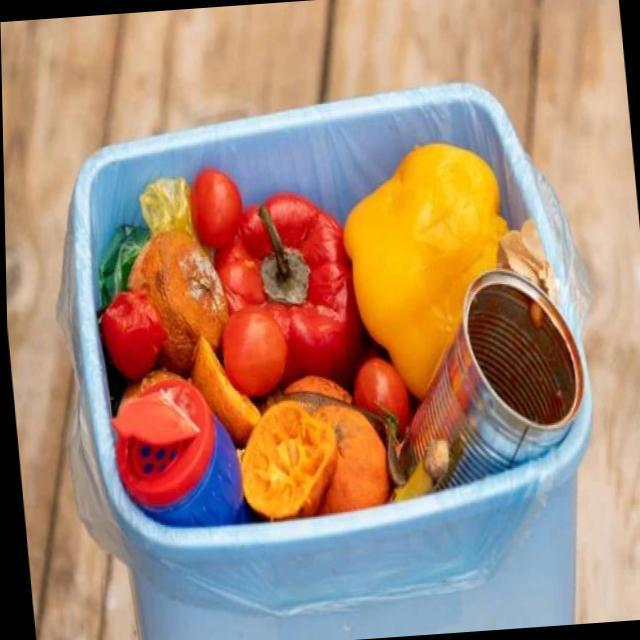Garbage: (87, 142, 598, 534)
Metal: (397, 269, 581, 486)
Plastic_bottle: (109, 376, 245, 527)
contaminated_waste: (394, 265, 586, 492)
